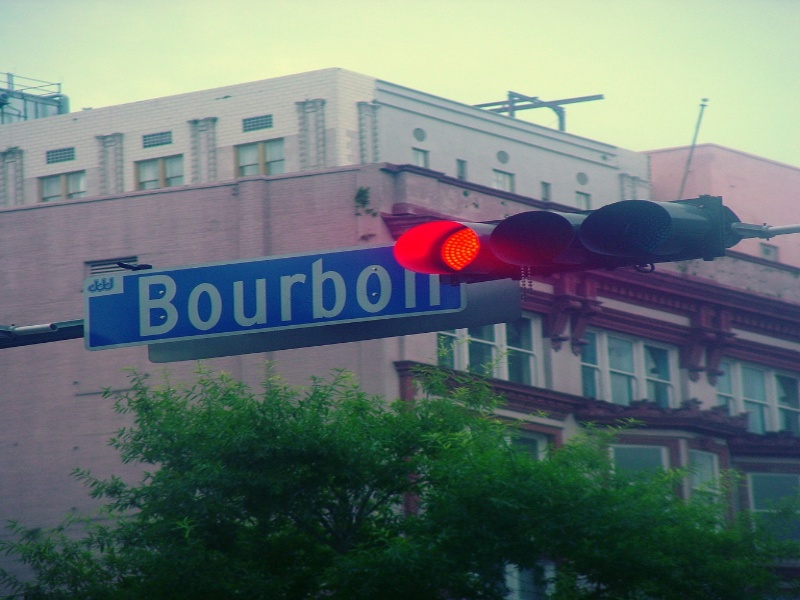red_light: (391, 219, 499, 285)
